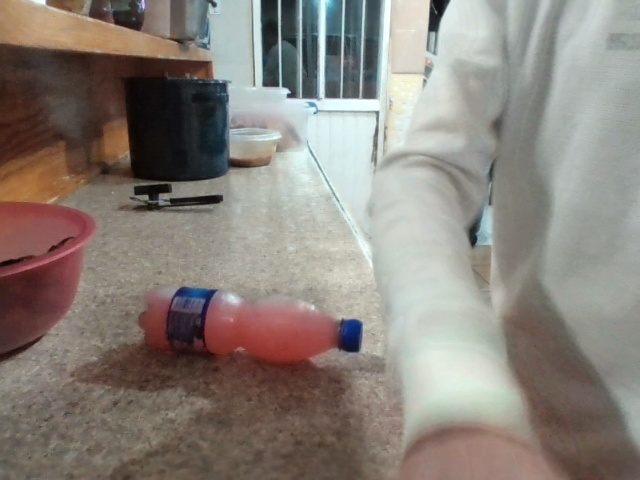botella: (117, 254, 404, 374)
